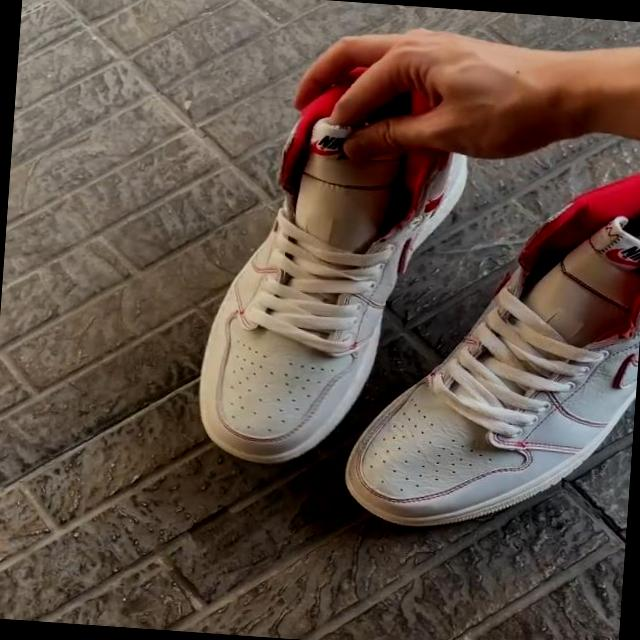nike_fake_jordan: (341, 153, 640, 546), (190, 78, 474, 481)
